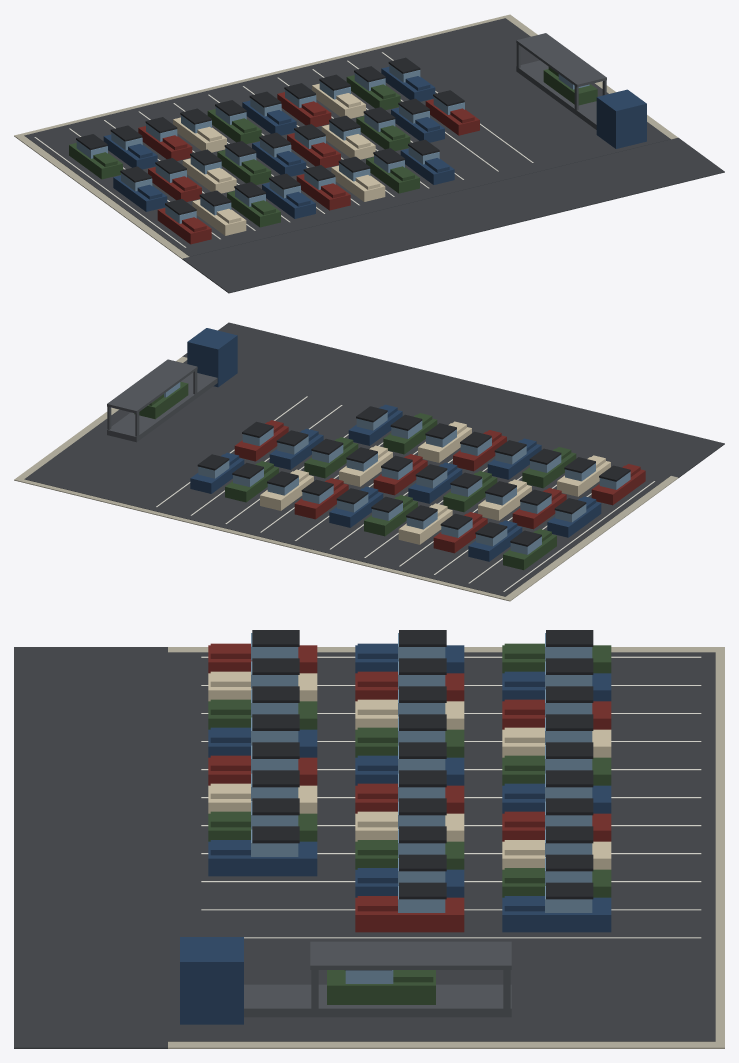
The model's file is site_carlot.glb.
3 renders of one model, top to bottom at view 1: azimuth 30°, elevation 25°; view 2: azimuth 150°, elevation 25°; view 3: azimuth 270°, elevation 25°, orthographic. The views are drawn at different scales.
Visible parts, largest first — view 1: site_carlot; view 2: site_carlot; view 3: site_carlot.
Part boxes in pixels (x1=…): site_carlot: x1=14, y1=14, x2=724, y2=293; site_carlot: x1=14, y1=322, x2=724, y2=601; site_carlot: x1=14, y1=630, x2=724, y2=1048.
Size of the model in its own units: 40 by 3 by 30.
